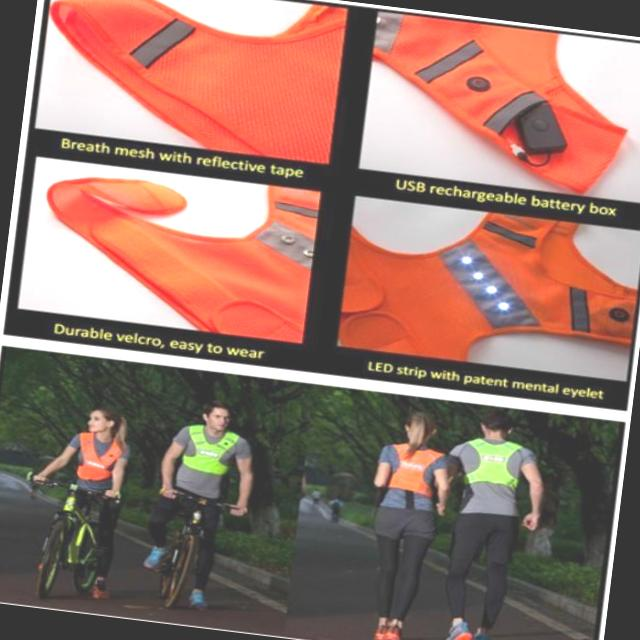vest: (451, 434, 536, 518), (165, 415, 248, 500), (378, 434, 452, 509), (75, 424, 130, 485)
